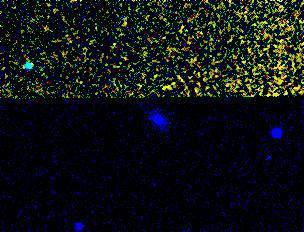star: (16, 44, 46, 74)
